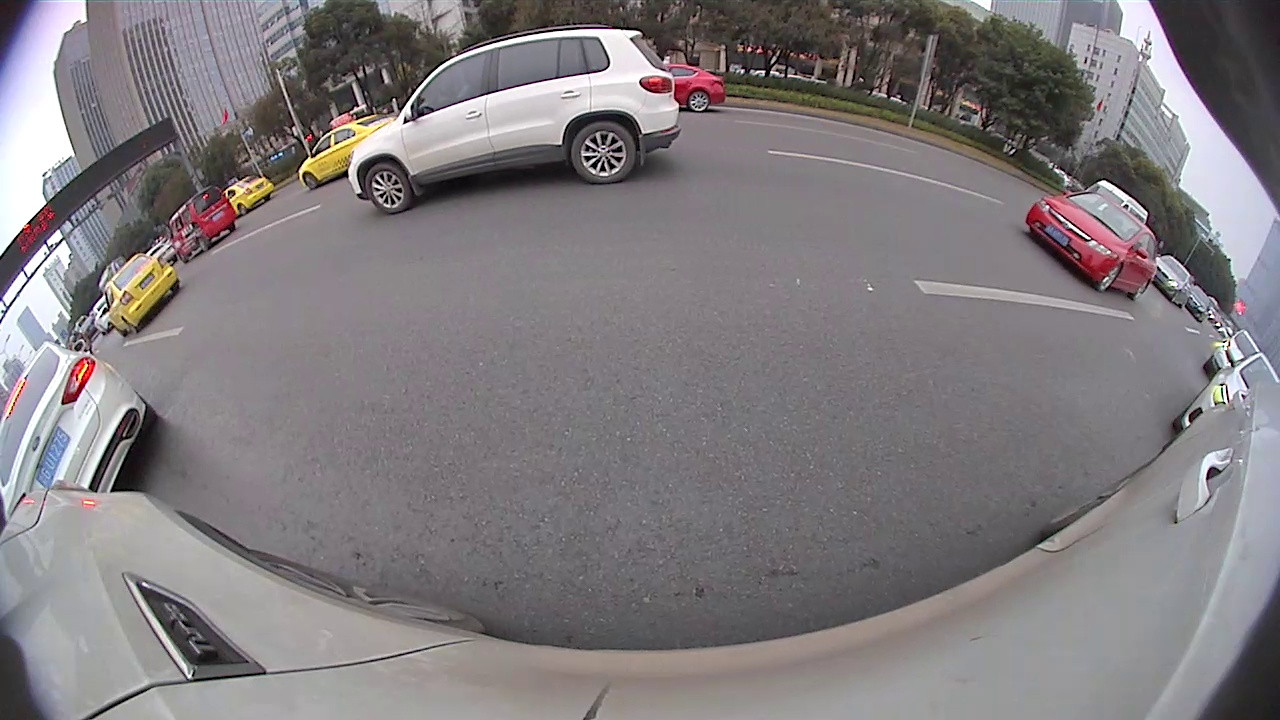car: (351, 28, 678, 213), (2, 344, 158, 519), (1026, 191, 1156, 298), (1171, 353, 1277, 435), (300, 115, 393, 191), (107, 254, 176, 335), (170, 184, 234, 265), (658, 67, 723, 113), (227, 173, 275, 212)
front: (365, 164, 412, 215), (1098, 264, 1122, 294), (305, 171, 320, 191)
rear: (568, 119, 638, 186), (1136, 278, 1151, 300)
